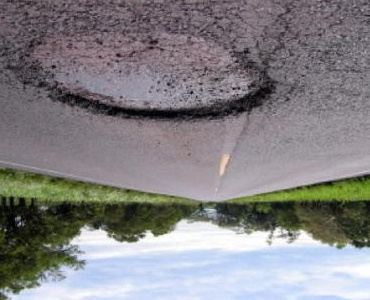pothole: (3, 16, 278, 124)
